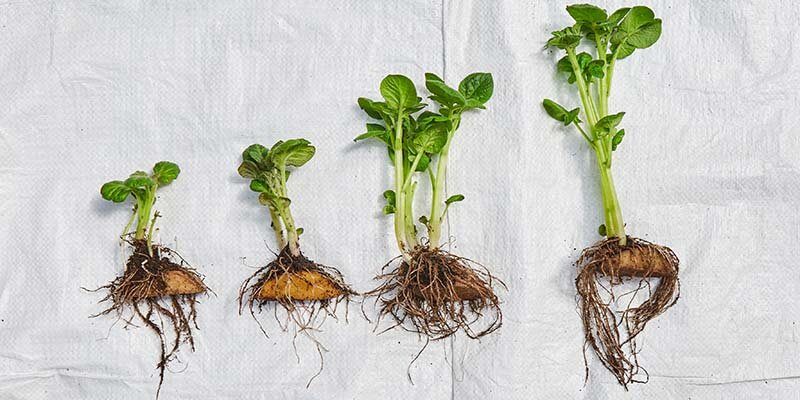potato_plant: (536, 1, 666, 239), (354, 66, 496, 261), (235, 137, 322, 262), (96, 155, 182, 253)
